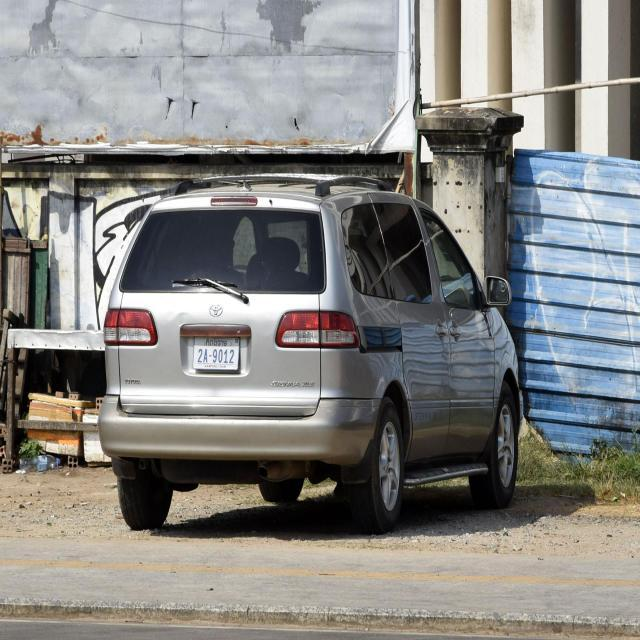Kampong_Cham: (204, 337, 228, 348)
